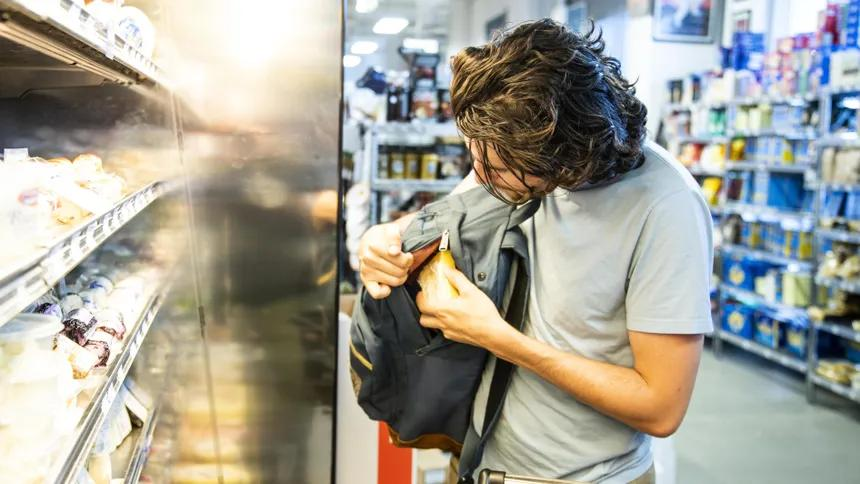shoplifting: (222, 23, 652, 427)
